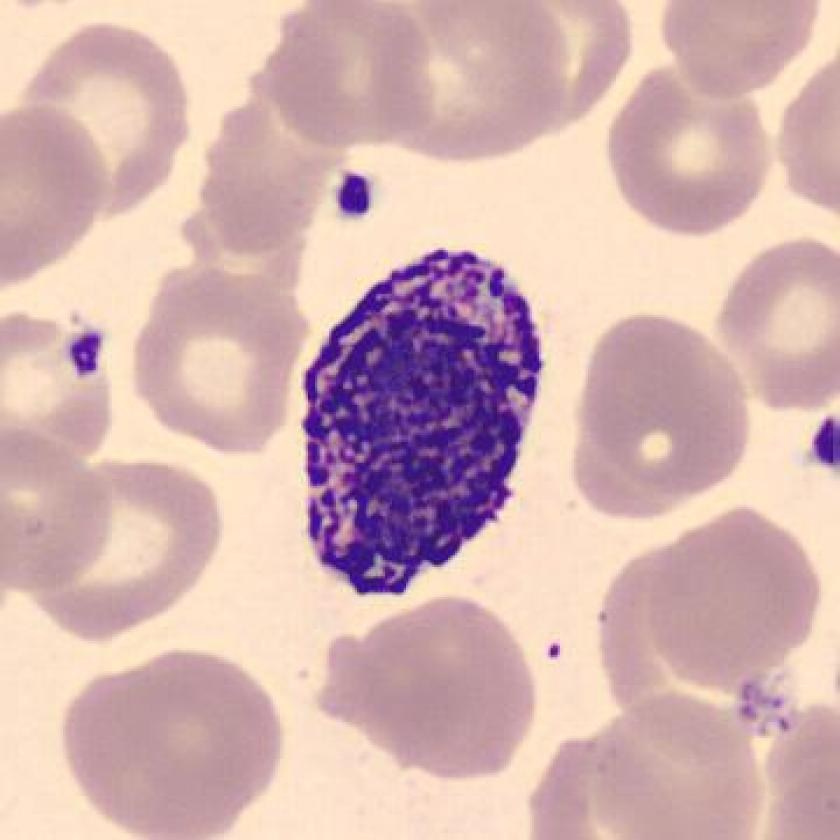basophil: (300, 239, 547, 598)
